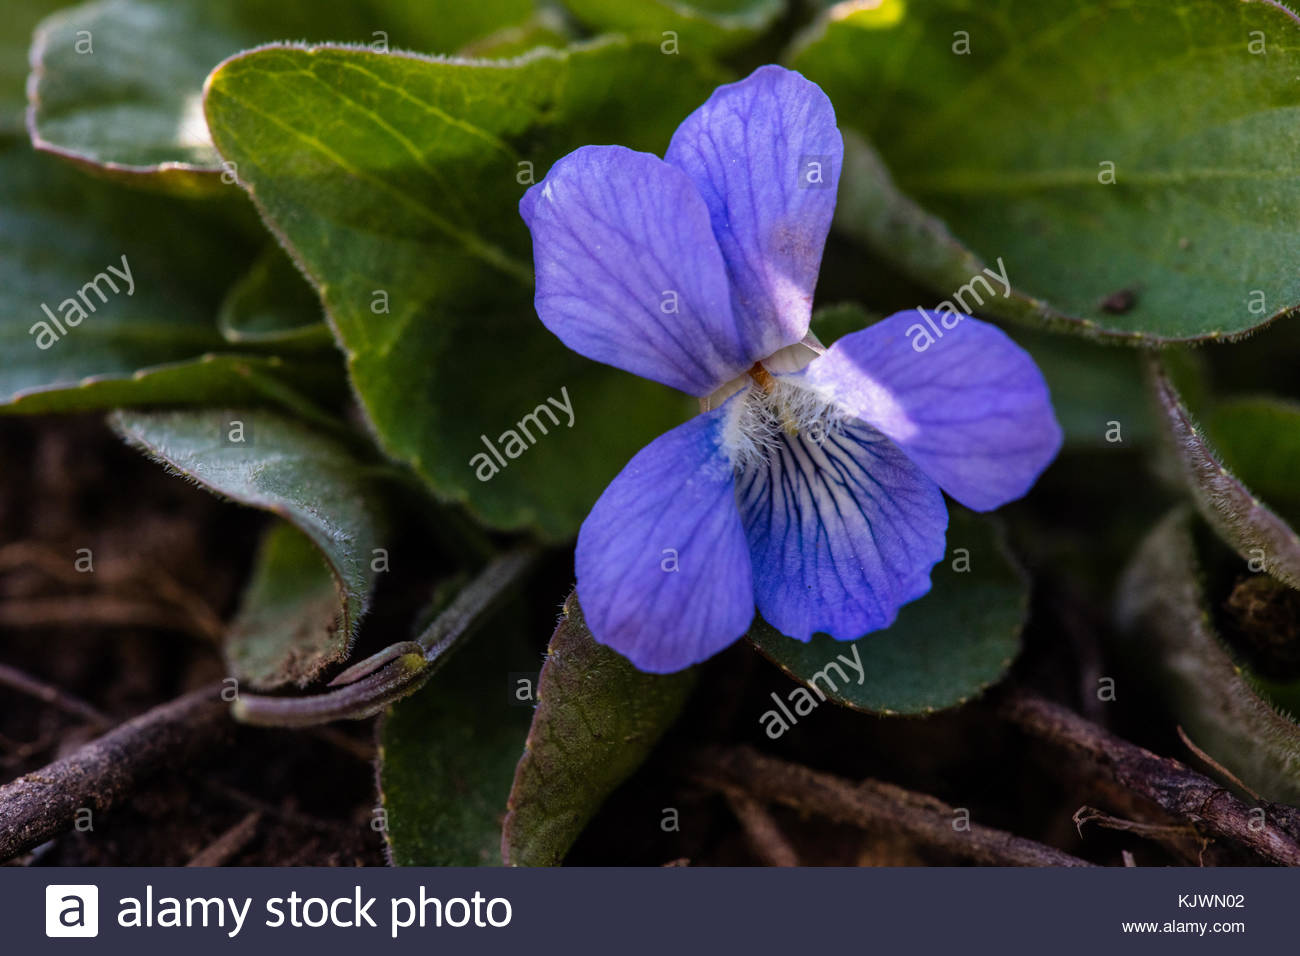violet: (474, 60, 1072, 653)
